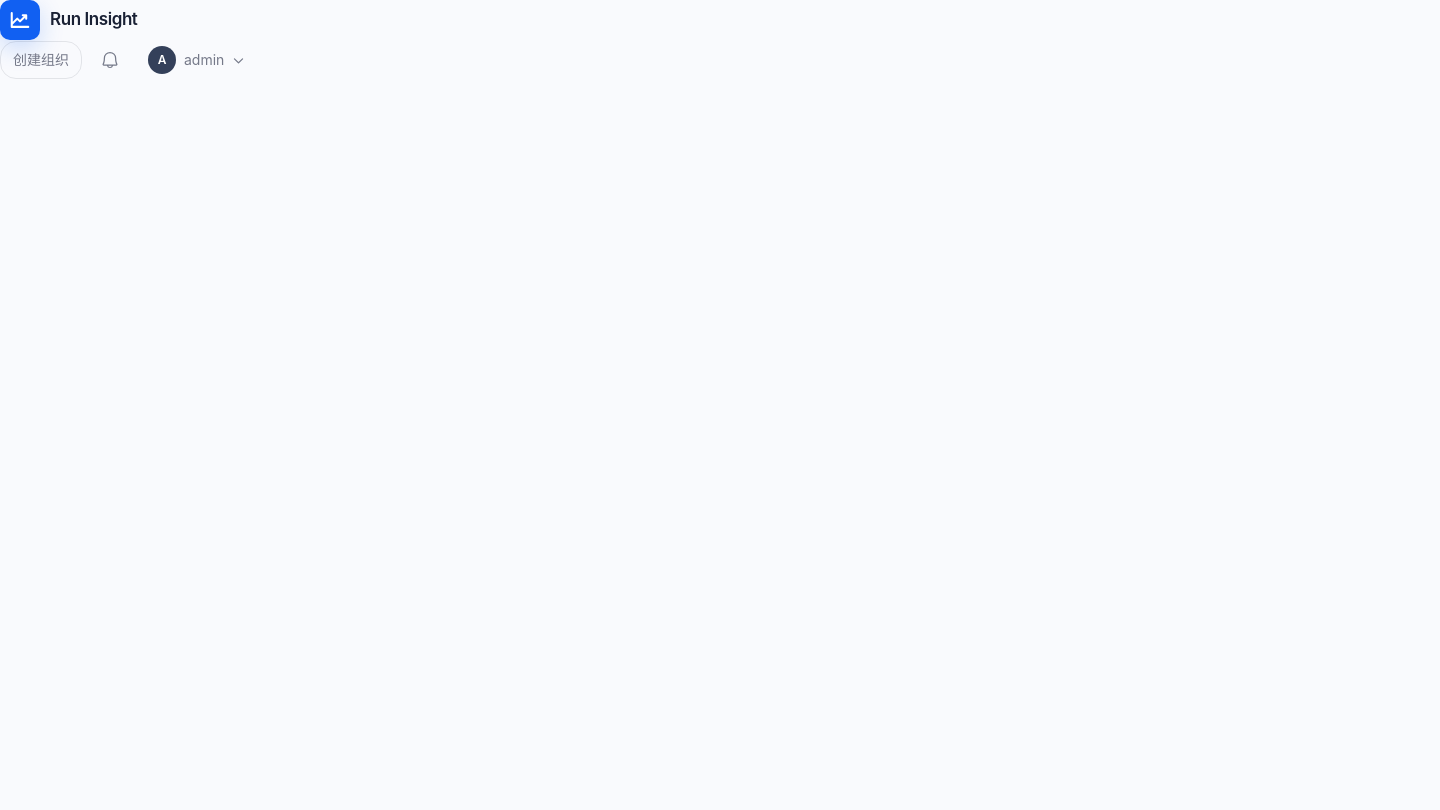
Test: Header password management › opens safe session management from the user menu
This screenshot has width=1440, height=810.
Click the button "A admin" at [197, 60], box x1=138 y1=40 x2=255 y2=80
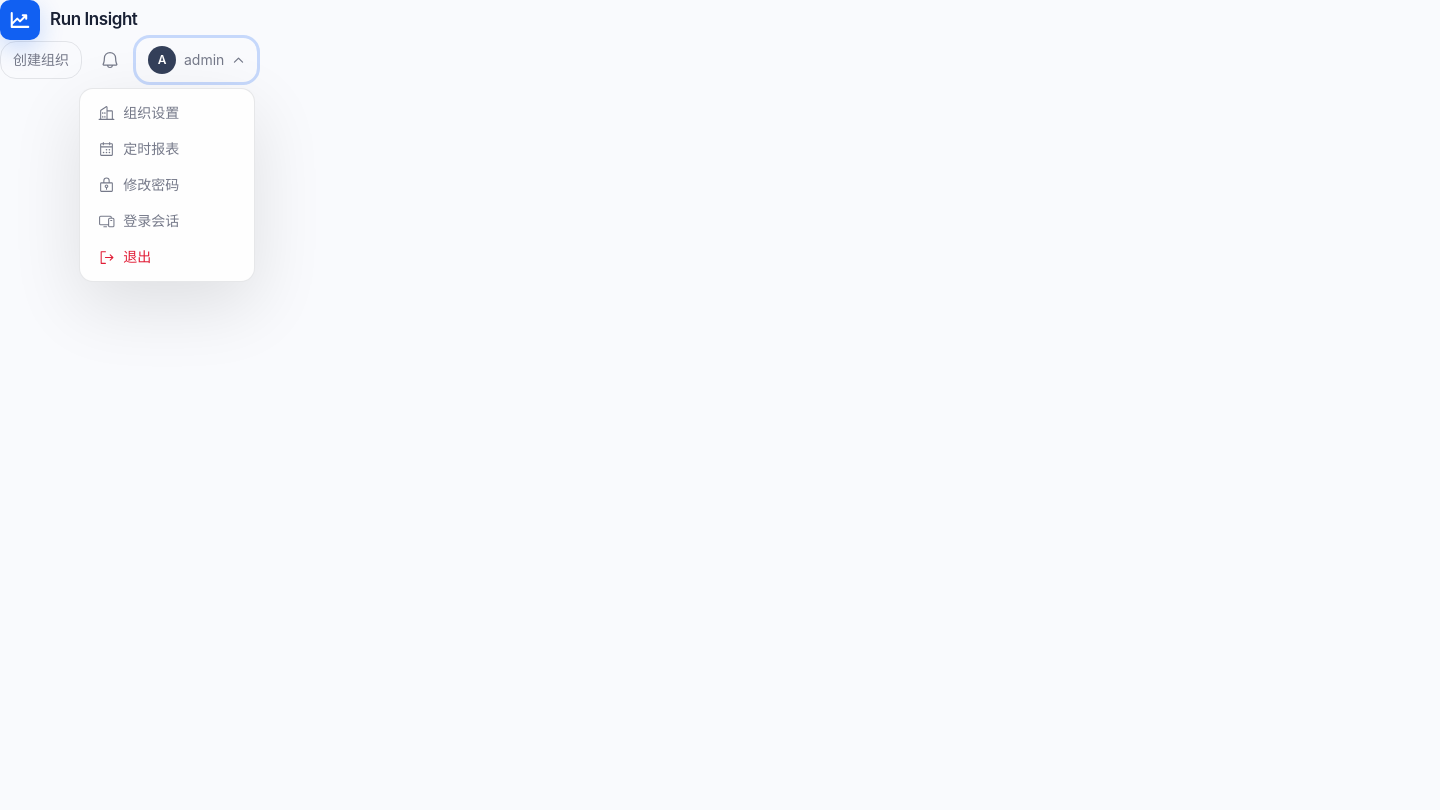
Click the menu item "登录会话" at [167, 221], box x1=86 y1=203 x2=248 y2=239
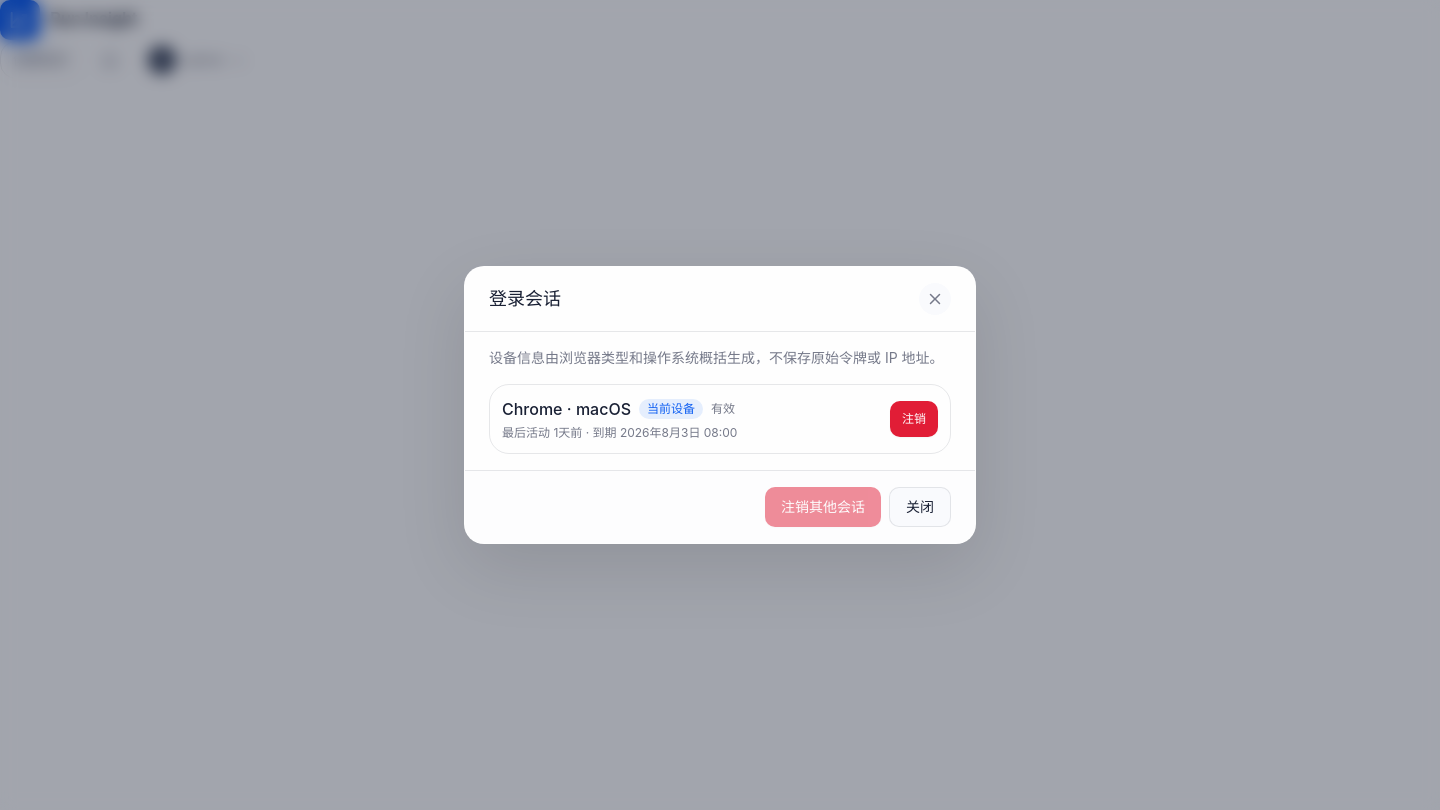
Result: the dialog "登录会话" is shown at x1=464 y1=266 x2=976 y2=544
Result: the text "Chrome · macOS" is shown at x1=502 y1=397 x2=631 y2=421
Result: the text "当前设备" is shown at x1=639 y1=399 x2=703 y2=419
